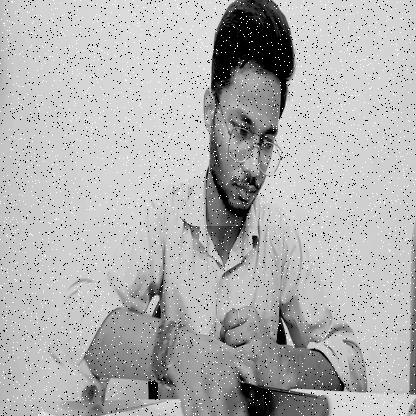Distracted: (205, 0, 296, 226)
